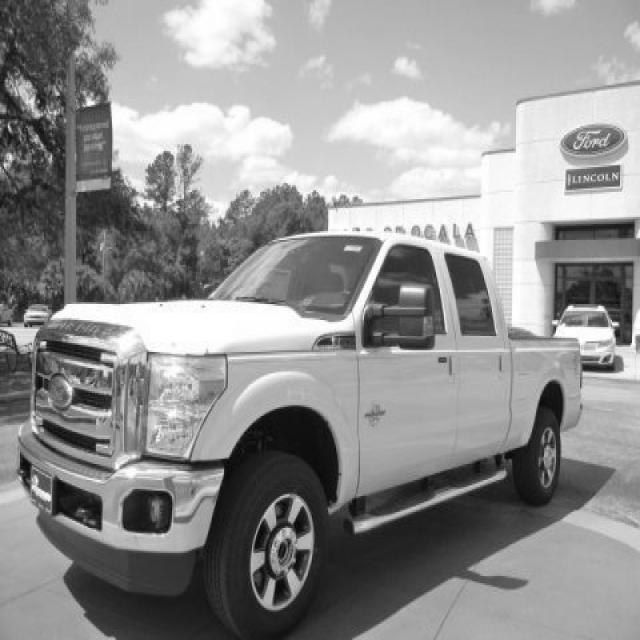car: (19, 231, 584, 640), (552, 304, 619, 371), (23, 302, 52, 327)
